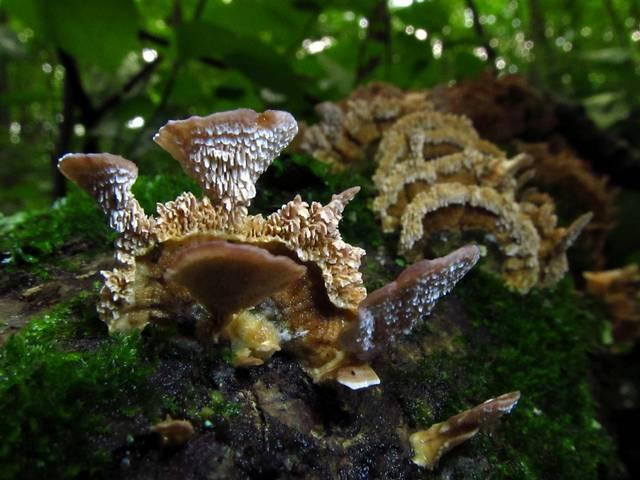poisonous_mushroom: (86, 188, 486, 407), (302, 80, 640, 307), (152, 106, 299, 213), (56, 150, 139, 233)
